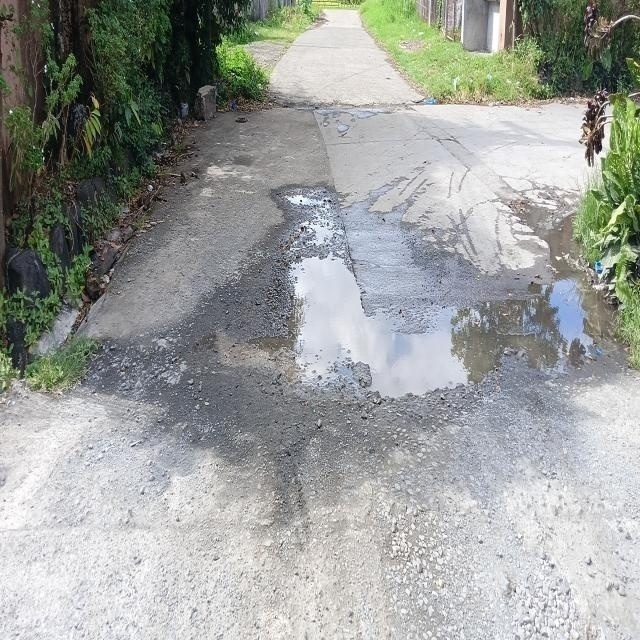pothole: (273, 184, 594, 423)
